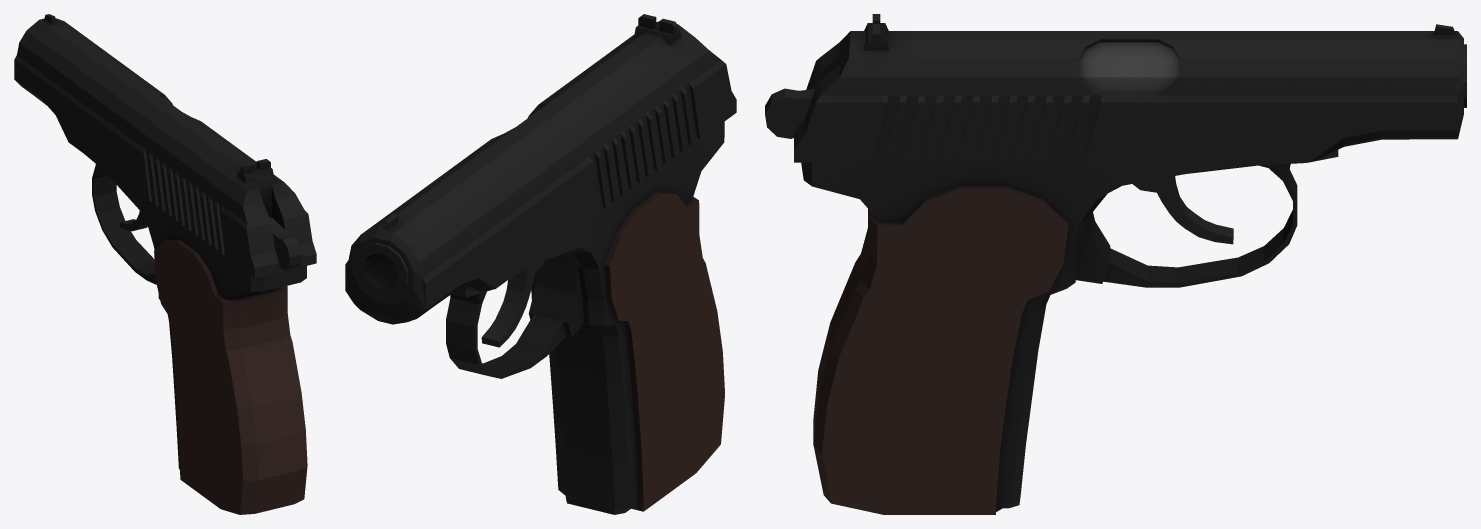
The model's file is Pistol_PM.fbx.
3 views of the same model, side by side, from view 1: azimuth 30°, elevation 25°; view 2: azimuth 150°, elevation 25°; view 3: azimuth 270°, elevation 25° (orthographic). The views are drawn at different scales.
Visible parts, largest first — view 1: Grip, Slide, Hammer; view 2: Grip, Slide, Trigger, Magazine; view 3: Grip, Slide, Trigger, Hammer.
Boxes of the visible parts, <box> form: Grip: <box>84,154,307,514</box>; Slide: <box>14,14,316,278</box>; Hammer: <box>269,217,302,270</box>; Grip: <box>355,121,724,511</box>; Slide: <box>345,14,736,324</box>; Trigger: <box>481,260,544,347</box>; Magazine: <box>565,496,630,514</box>; Grip: <box>801,44,1466,514</box>; Slide: <box>794,14,1463,162</box>; Trigger: <box>1133,176,1233,244</box>; Hammer: <box>765,88,814,138</box>.
Size of the model in its own units: 10.12 by 51.07 by 68.98.
